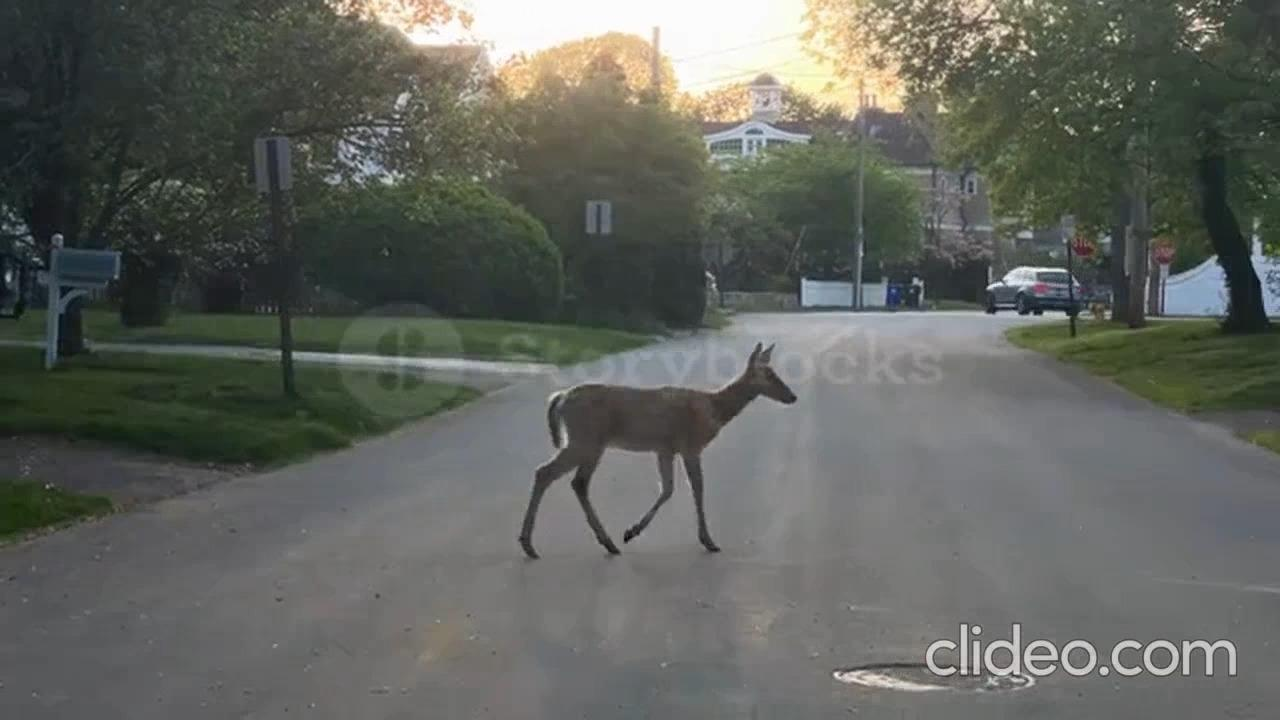deer: (523, 340, 802, 572)
